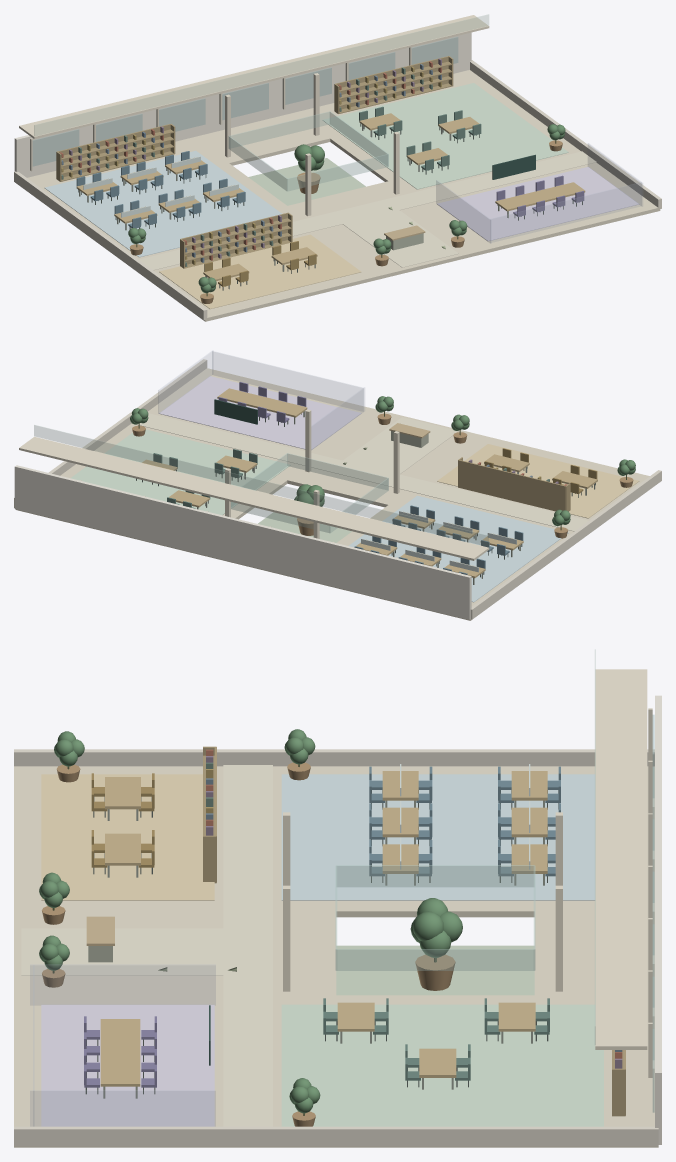
The model's file is 空间常态阅读.glb.
3 views of the same model, one above another, from view 1: azimuth 30°, elevation 25°; view 2: azimuth 150°, elevation 25°; view 3: azimuth 270°, elevation 25° (orthographic). The views are drawn at different scales.
Visible parts, largest first — view 1: back_wall, B_green_zone, A_blue_zone, upper_gallery, floor_east, window (×7), booking_glass (×3), D_booking_zone, C_heritage_zone, floor_west, gallery_rail, shelf (×11) (+11 smaller); view 2: back_wall, upper_gallery, booking_glass (×3), main_route, B_green_zone, A_blue_zone, D_booking_zone, gallery_rail, floor_east, floor_south, floor_west, C_heritage_zone (+9 smaller); view 3: B_green_zone, A_blue_zone, upper_gallery, main_route, D_booking_zone, floor_west, C_heritage_zone, floor_east, oak_worktop (×12), booking_glass (×2), right_cut_wall, floor_south (+10 smaller).
Part boxes in pixels (<box>): back_wall: <box>14,32,471,177</box>; B_green_zone: <box>322,83,568,189</box>; A_blue_zone: <box>44,150,281,257</box>; upper_gallery: <box>19,15,489,138</box>; floor_east: <box>295,70,660,253</box>; window (×7): <box>32,36,458,166</box>; booking_glass (×3): <box>436,143,642,243</box>; D_booking_zone: <box>437,166,639,241</box>; C_heritage_zone: <box>159,234,361,309</box>; floor_west: <box>27,137,382,321</box>; gallery_rail: <box>34,14,488,136</box>; shelf (×11): <box>61,61,452,261</box>; back_wall: <box>14,465,471,619</box>; upper_gallery: <box>19,436,489,560</box>; booking_glass (×3): <box>158,350,364,449</box>; main_route: <box>131,413,588,531</box>; B_green_zone: <box>70,429,290,515</box>; A_blue_zone: <box>349,495,568,602</box>; D_booking_zone: <box>159,376,361,449</box>; gallery_rail: <box>34,425,488,546</box>; floor_east: <box>15,368,379,552</box>; floor_south: <box>287,411,482,507</box>; floor_west: <box>293,435,649,620</box>; C_heritage_zone: <box>437,444,639,518</box>; B_green_zone: <box>281,1004,603,1126</box>; A_blue_zone: <box>281,774,595,900</box>; upper_gallery: <box>595,669,647,1049</box>; main_route: <box>223,765,272,1126</box>; D_booking_zone: <box>41,1004,214,1126</box>; floor_west: <box>14,766,654,917</box>; C_heritage_zone: <box>41,774,214,900</box>; floor_east: <box>14,995,658,1147</box>; oak_worktop (×12): <box>100,771,547,1086</box>; booking_glass (×2): <box>30,964,215,1126</box>; right_cut_wall: <box>14,1126,658,1146</box>; floor_south: <box>14,911,336,995</box>.
Bounding box in the file's own units: 36.28 × 6.7 × 26.14.
